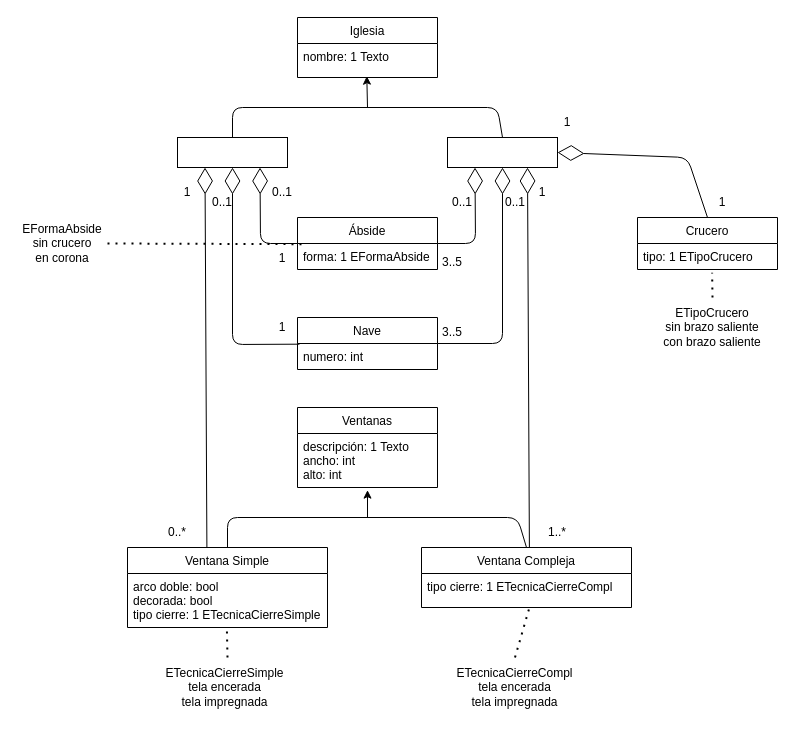
Some shapes in this 795 by 735 pixel diagram are drawn without their labels. Here are the shapes that lost their labels. From the top down, the centre of each, then its label:
At point (232, 152): "Iglesia Rural".
At point (502, 152): "Iglesia Mayor".
